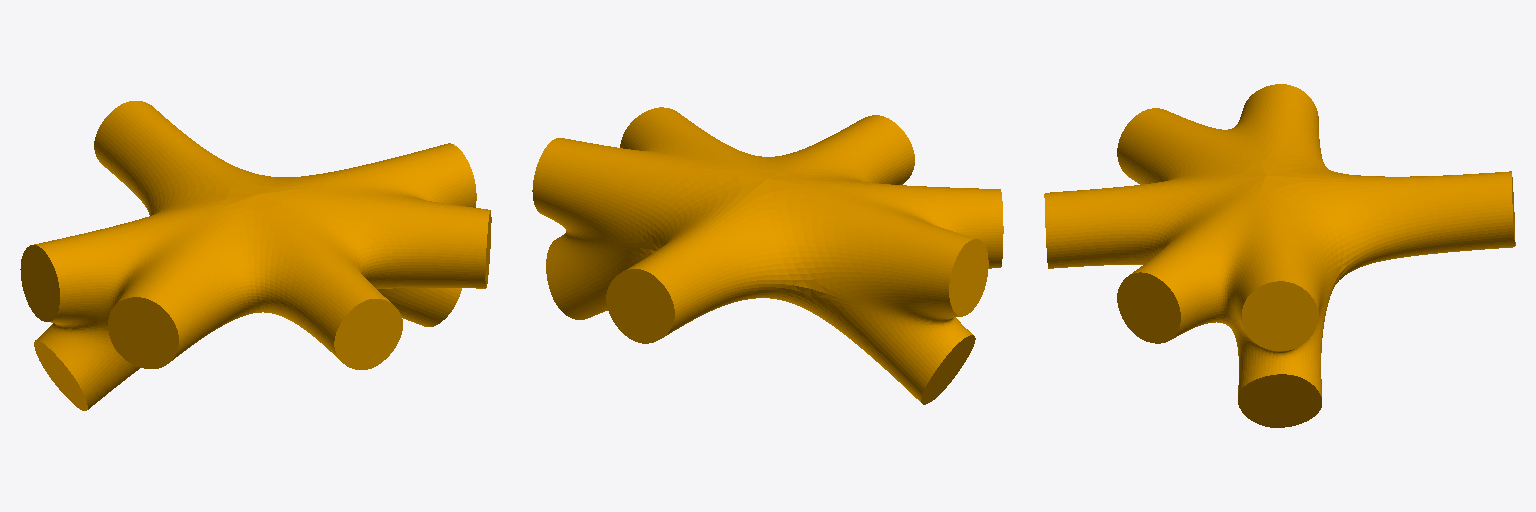
URDF robot description (object):
<robot name="object">
  <link name="object">
    <visual>
      <origin xyz="0 0 0"/>
      <geometry>
        <mesh filename="visual.obj" scale="1 1 1"/>
      </geometry>
    </visual>
    <collision>
      <origin xyz="0 0 0"/>
      <geometry>
        <mesh filename="visual.obj" scale="1 1 1"/>
      </geometry>
    </collision>
    <inertial>
      <mass value="0.05"/>
      <inertia ixx="9.426650414592941e-05" iyy="0.00017893515609817764" izz="0.00024399300147549152" ixy="-1.5208527889515467e-08" ixz="-1.8846697968271694e-07" iyz="-2.2705504490504858e-07"/>
    </inertial>
  </link>
</robot>

--- Facts derived from the render (not from the file) ---
Views: 3 orthographic renders of the robot side by side, from view 1: azimuth 30°, elevation 25°; view 2: azimuth 150°, elevation 25°; view 3: azimuth 270°, elevation 25°.
Model object with 1 links and 0 joints (none), rooted at object, posed every joint at zero.
Visible links, largest first — view 1: object; view 2: object; view 3: object.
Boxes of the visible links, left/top/right/bottom form: object: left=20, top=101, right=491, bottom=410; object: left=532, top=107, right=1003, bottom=404; object: left=1044, top=84, right=1515, bottom=427.
Size in the robot's own frame: 0.2321 by 0.2333 by 0.0942 metres.
1 mesh visuals loaded from 1 distinct referenced files (1 OBJ).
